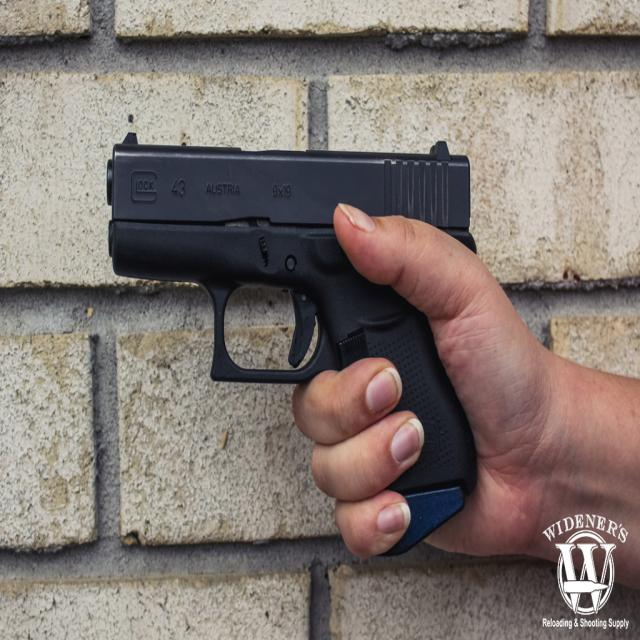HandGun: (105, 134, 476, 556)
